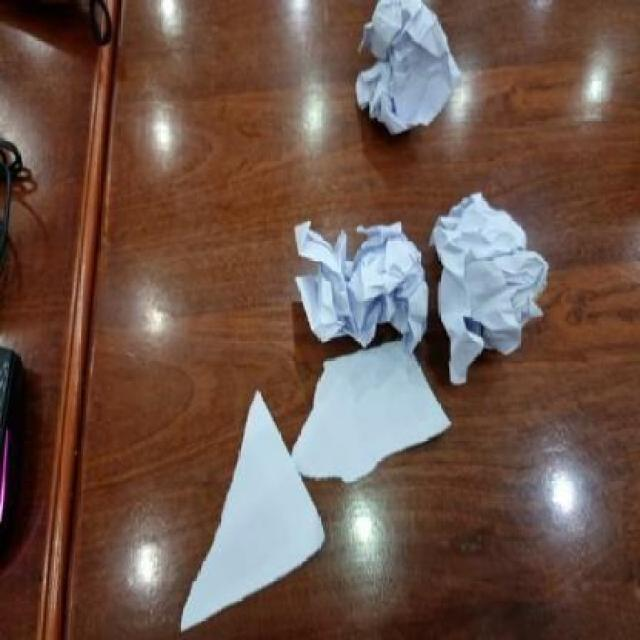trash: (179, 393, 324, 638), (295, 339, 450, 486), (432, 195, 551, 383), (295, 217, 428, 349), (352, 0, 458, 135)
